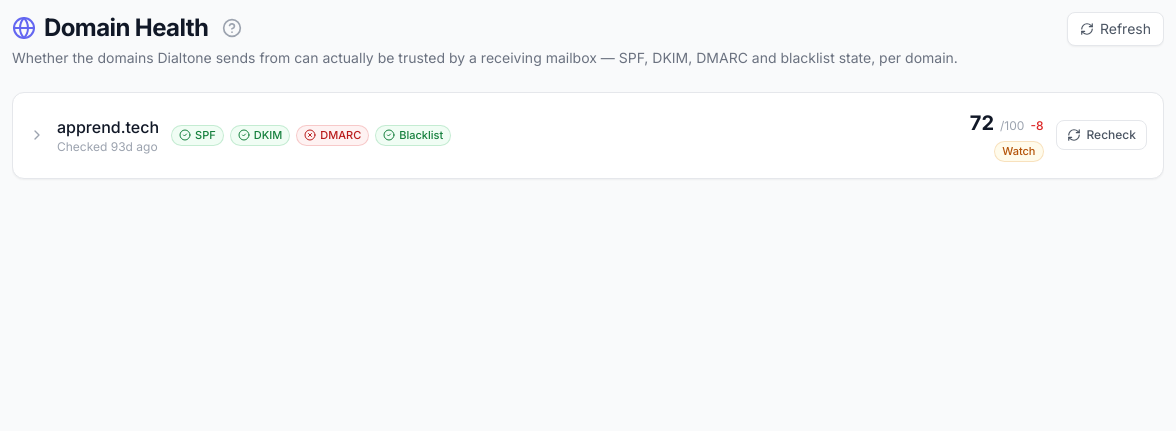
DomainHealth page › gives the remediation, not just a red chip
What coordinates should you click on to do the following:
click the button named "show details for apprend.tech"
I would click on:
 (37, 135)
Its box is left=29, top=127, right=45, bottom=143.
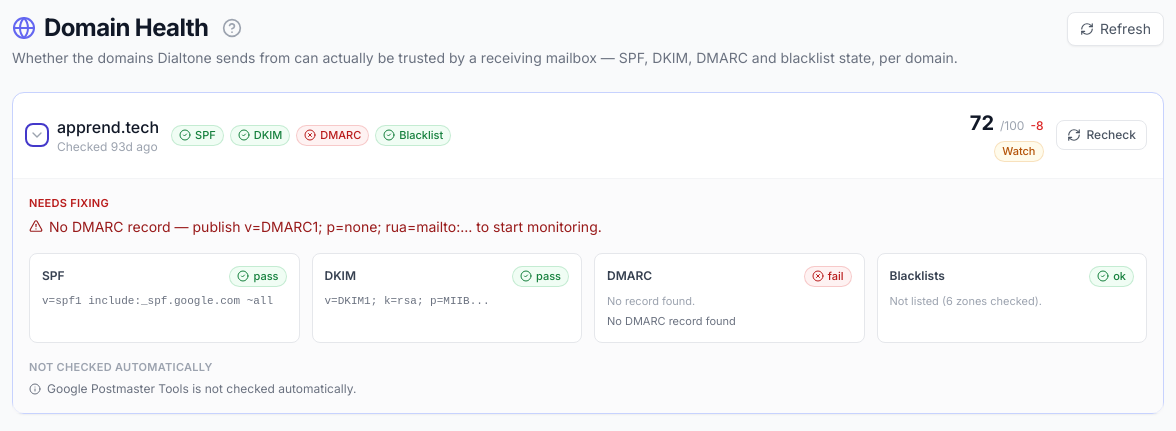
Expected: the heading "Needs fixing" is shown, left=29, top=196, right=109, bottom=210
Expected: the text "publish v=DMARC1" is shown, left=49, top=218, right=602, bottom=235
